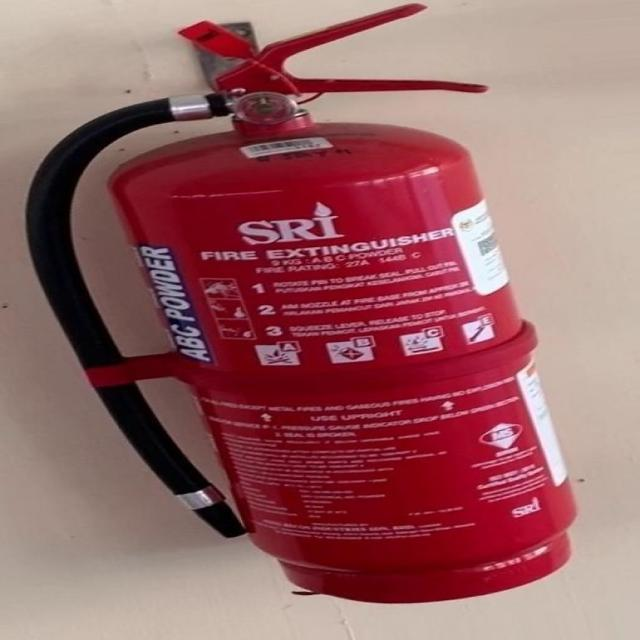fire_extinguisher: (14, 1, 586, 609)
